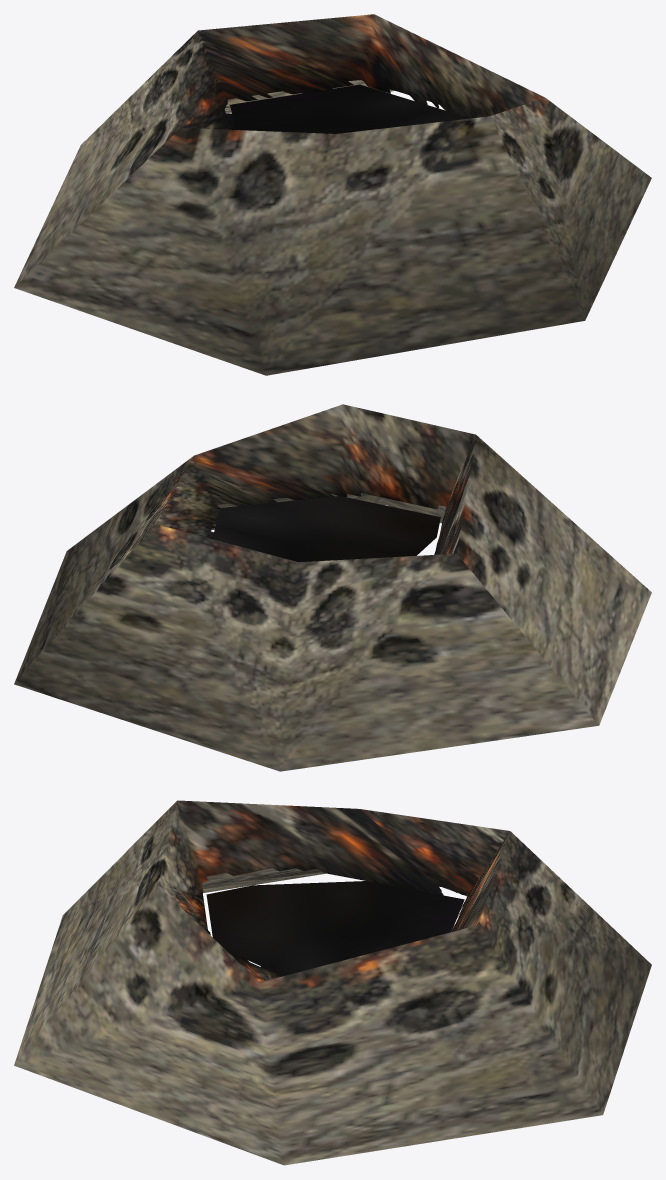
Rendered from ogresmokevent01.obj.
3 views of the same model, one above another, from view 1: azimuth 30°, elevation 25°; view 2: azimuth 150°, elevation 25°; view 3: azimuth 270°, elevation 25° (orthographic). The views are drawn at different scales.
Parts seen in each view (by area): view 1: OGRESMOKEVENT010; view 2: OGRESMOKEVENT010; view 3: OGRESMOKEVENT010.
Part boxes in pixels (x1,y1,x2,y2): OGRESMOKEVENT010: (14, 14, 651, 375); OGRESMOKEVENT010: (14, 404, 651, 771); OGRESMOKEVENT010: (14, 800, 651, 1165).
Size of the model in its own units: 2.67 by 0.7394 by 2.4.
Materials: 1 (1 with a texture image).
